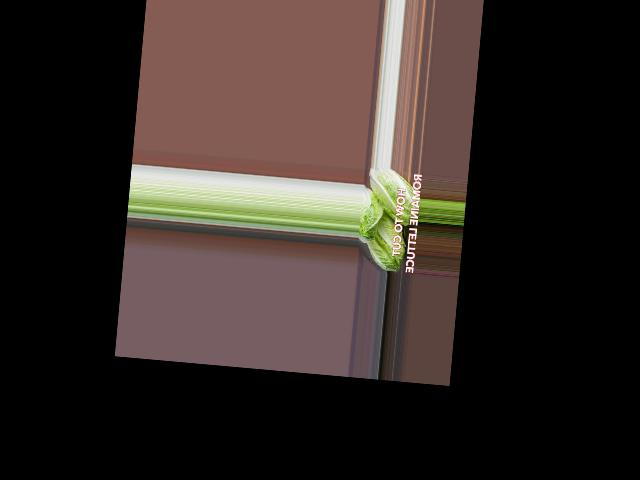lettuce: (360, 206, 413, 275)
